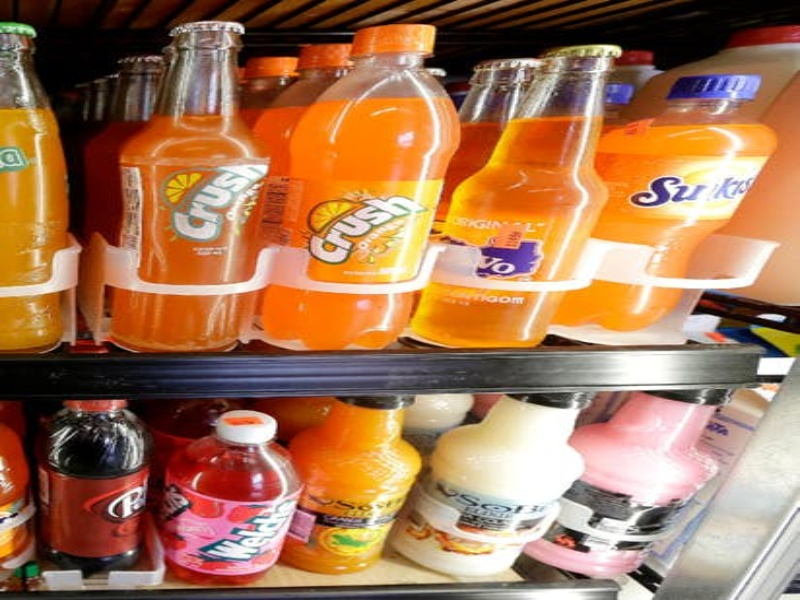Glass bottle: (447, 27, 620, 371), (103, 23, 266, 344)
Plastic bottle: (581, 23, 776, 395), (259, 8, 456, 367), (131, 394, 314, 583), (24, 386, 159, 561)
